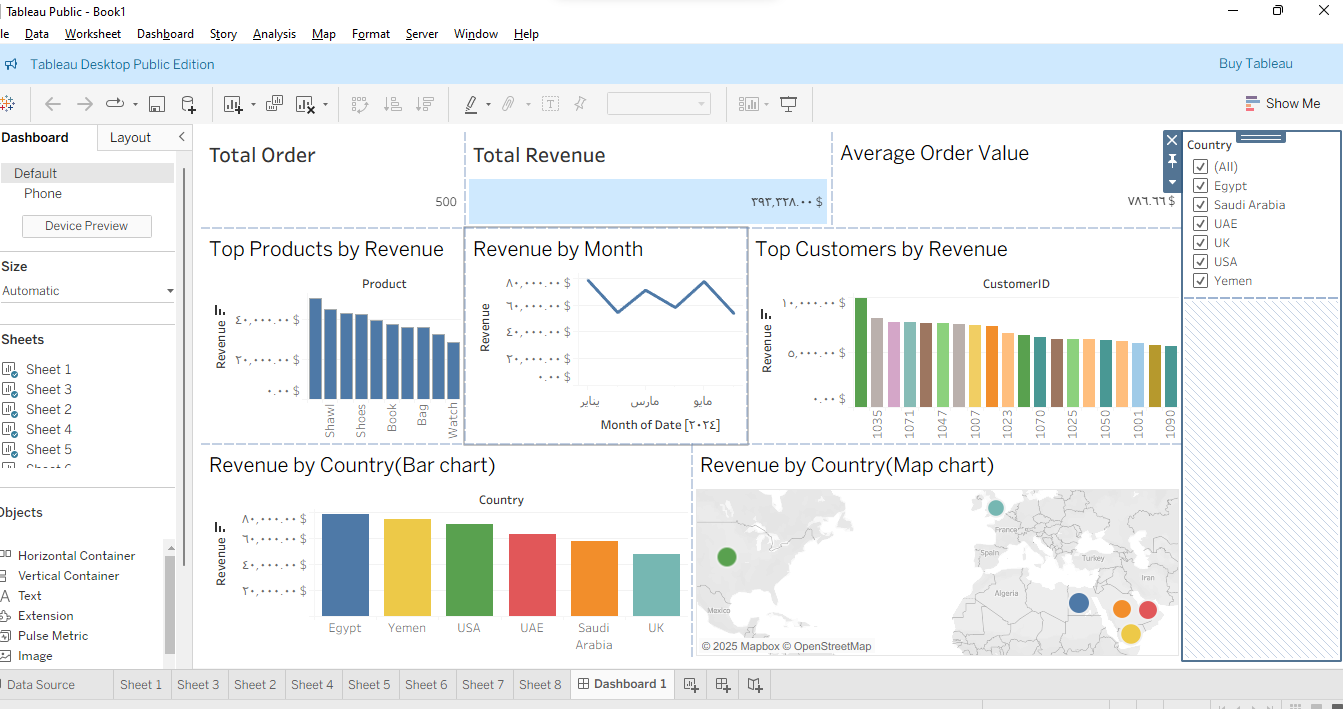

What the dashboard file says about the page in this screenshot:
{"tool":"tableau","page":{"name":"Dashboard 1","canvas":[1000,1000],"units":"permille","ordinal":0},"visuals":[{"type":"worksheet","title":"Sheet 7","mark":"Automatic","box":[7.1,14.7,227.8,176.5]},{"type":"worksheet","title":"Sheet 6","mark":"Automatic","box":[234.9,14.7,316.1,176.5]},{"type":"worksheet","title":"Sheet 8","mark":"Automatic","box":[551,14.7,303.1,176.5]},{"type":"filter","title":"Sheet 4","param":"[federated.0con7bq19v5kxs155ykhx06s2i95].[none:Country:nk]","box":[854.1,14.7,138.8,303.3]},{"type":"worksheet","title":"Sheet 1","mark":"Automatic","rows":["Revenue"],"cols":["Product"],"box":[7.1,191.2,227.9,397]},{"type":"worksheet","title":"Sheet 2","mark":"Automatic","rows":["Revenue"],"cols":["Date"],"box":[235,191.2,243.1,397]},{"type":"worksheet","title":"Sheet 5","mark":"Automatic","rows":["Revenue"],"cols":["CustomerID"],"box":[478,191.2,376.1,397]},{"type":"worksheet","title":"Sheet 4","mark":"Automatic","rows":["Revenue"],"cols":["Country"],"box":[7.1,588.2,423.5,397.1]},{"type":"worksheet","title":"Sheet 3","mark":"Automatic","box":[430.6,588.2,423.5,397.1]}]}

Visuals, with their boxes on the dashboard's canvas, which has no fixed pixel size, in thousandths of its width and height (x1, y1, x2, y2). These are canvas units, not pixel positions in the 1343x709 screenshot, which may show the page scaled, cropped or inside an application window:
"Sheet 7" worksheet: 7:15:235:191
"Sheet 6" worksheet: 235:15:551:191
"Sheet 8" worksheet: 551:15:854:191
"Sheet 4" filter: 854:15:993:318
"Sheet 1" worksheet: 7:191:235:588
"Sheet 2" worksheet: 235:191:478:588
"Sheet 5" worksheet: 478:191:854:588
"Sheet 4" worksheet: 7:588:431:985
"Sheet 3" worksheet: 431:588:854:985
